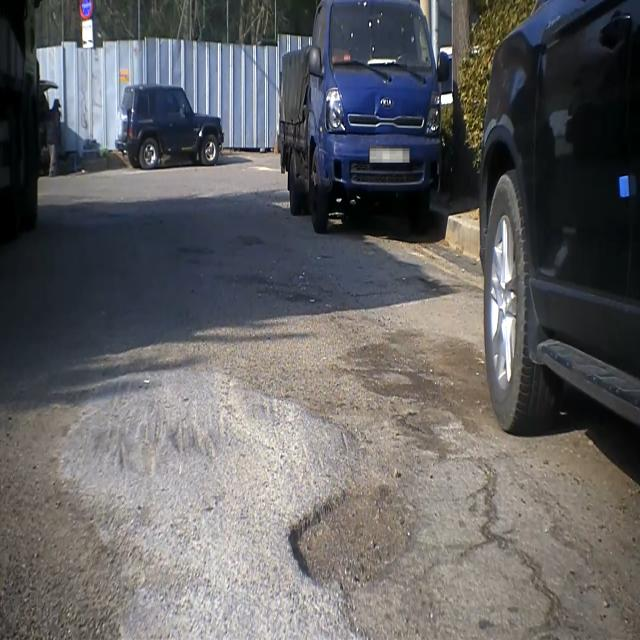Pothole: (278, 467, 422, 612)
